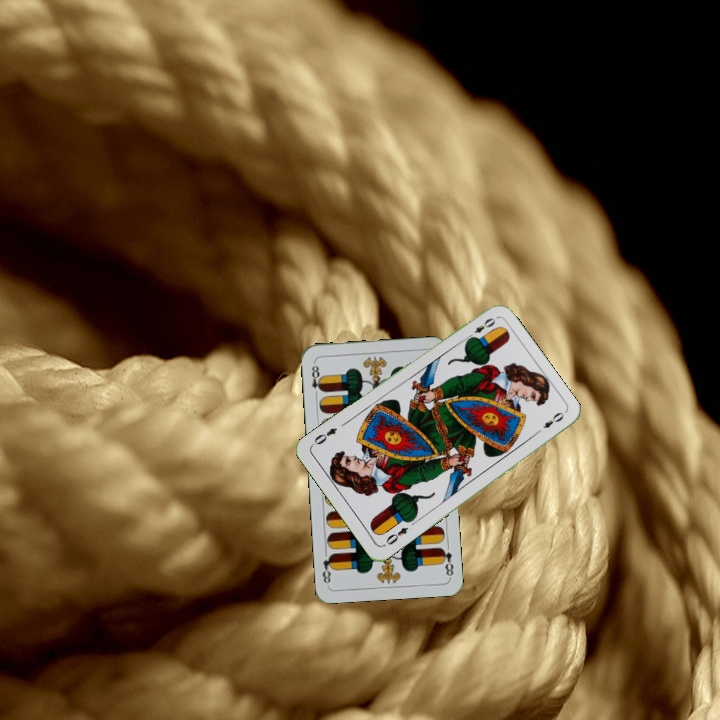E8: (307, 358, 325, 399), (437, 544, 456, 579)
EO: (462, 313, 498, 342), (380, 523, 411, 549)
